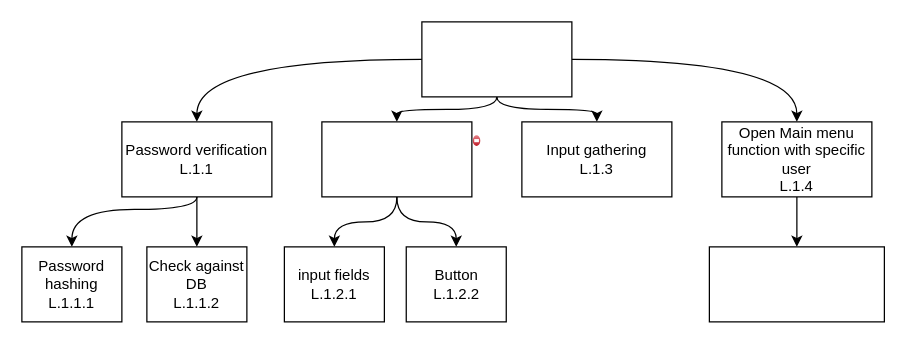
This 906x344 diagram has some shape labels left out. Each missing label, with the centre of its shape:
Call main function before closing window, call with use info L.1.4.1: (x=796, y=284)
GUI L.1.2: (x=396, y=159)
Login Menu L.1: (x=496, y=59)
